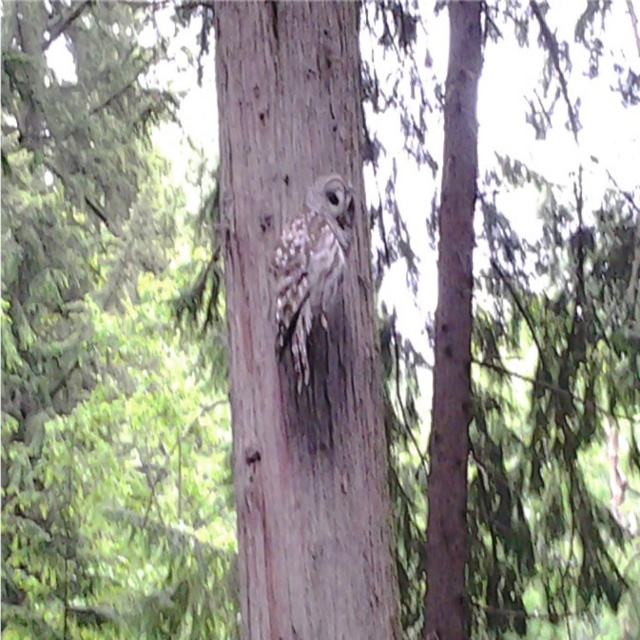Owl: (259, 175, 359, 396)
